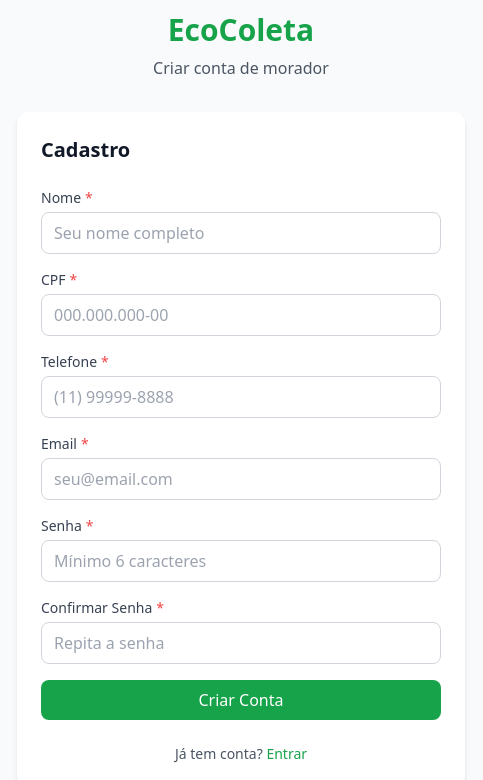
Test: RegisterResidentPage › shows error message on registration failure
The image size is (483, 780).
Step 1. Type "João" into the field labelled "Nome*" → (241, 233), box [41,212,441,254]
Step 2. Type "12345678901" into the field labelled "CPF*" → (241, 315), box [41,294,441,336]
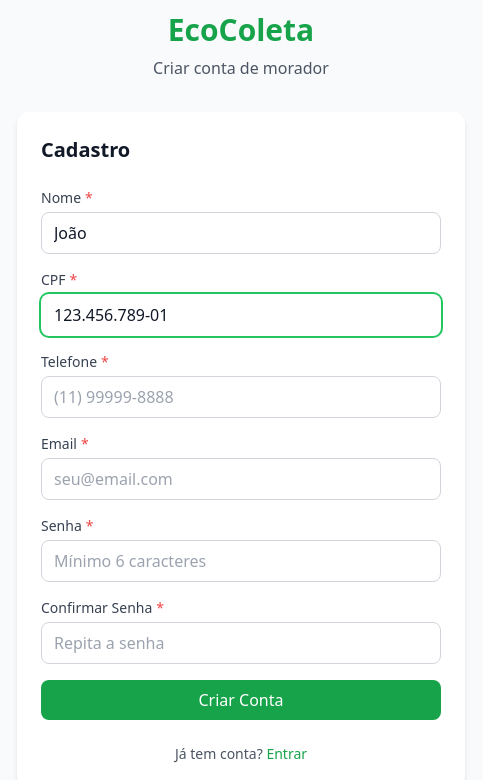
Step 3. Type "11999998888" into the field labelled "Telefone*" → (241, 397), box [41,376,441,418]
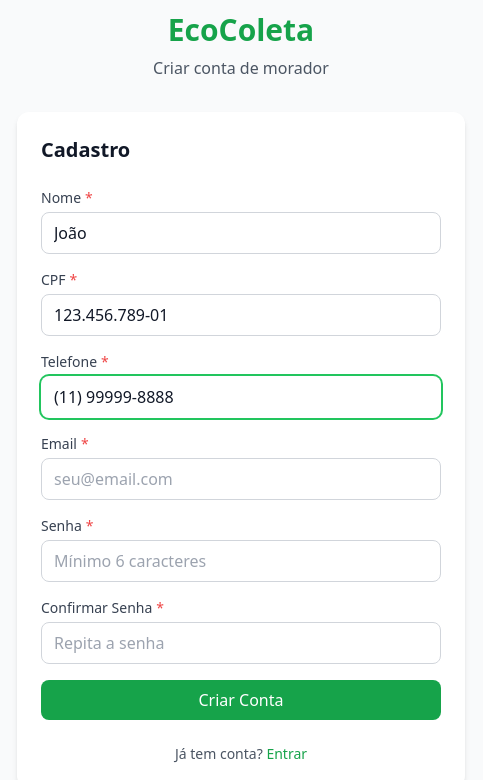
Step 4. Type "existing@email.com" into the field labelled "Email*" → (241, 479), box [41,458,441,500]
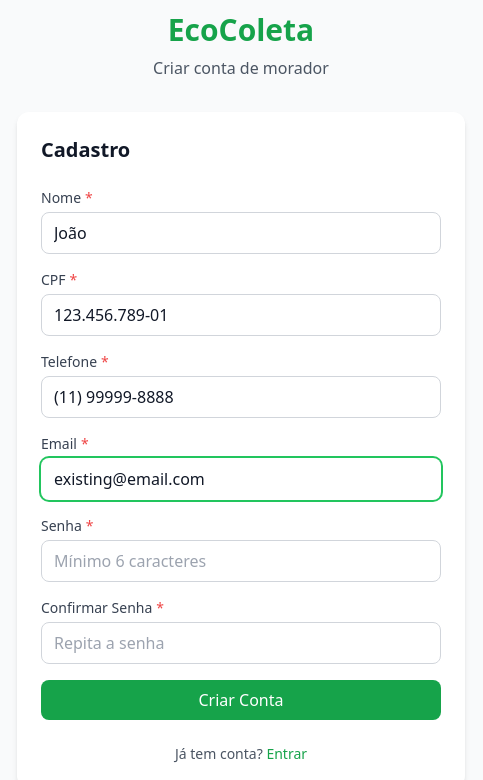
Step 5. Type "password123" into the password field with placeholder "Mínimo 6 caracteres" → (241, 561), box [41,540,441,582]
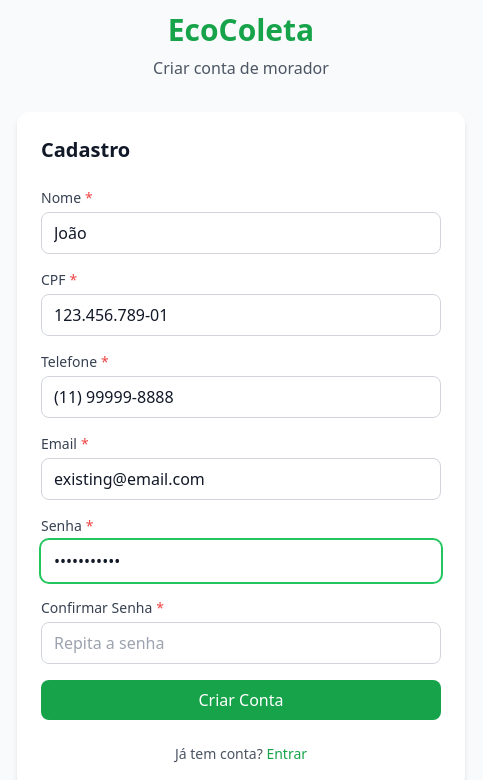
Step 6. Type "password123" into the password field with placeholder "Repita a senha" → (241, 643), box [41,622,441,664]
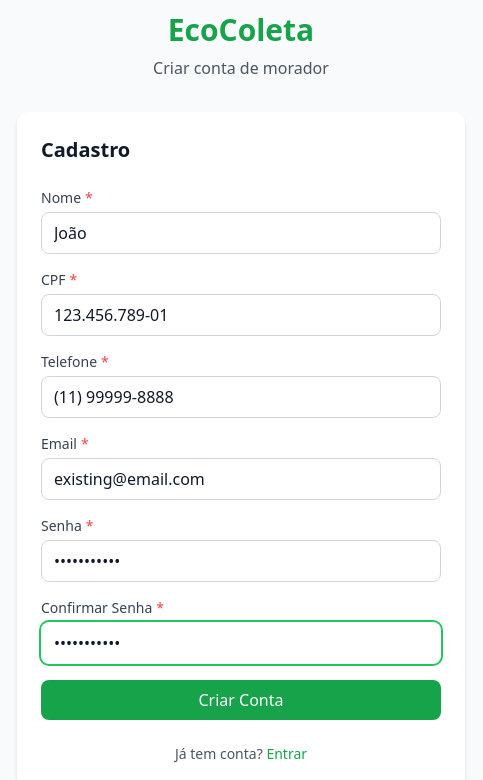
Step 7. Click the button "Criar Conta" → click(241, 700), box [41,680,441,720]
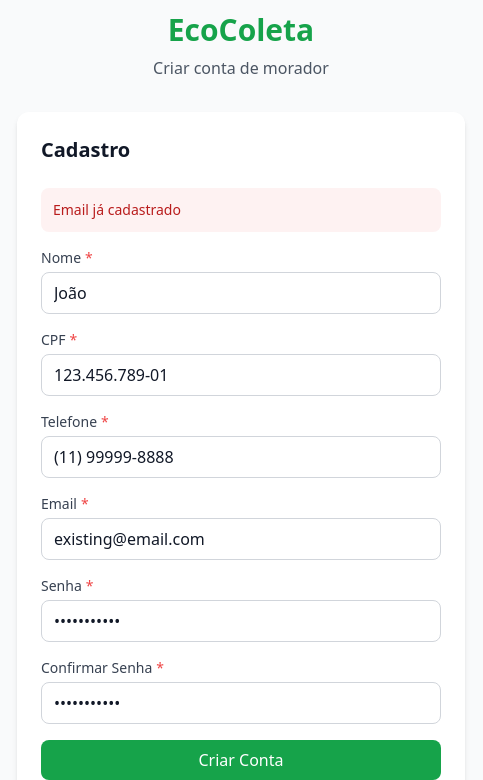
expect the text "Email já cadastrado" is shown: met, box [53,200,181,219]
